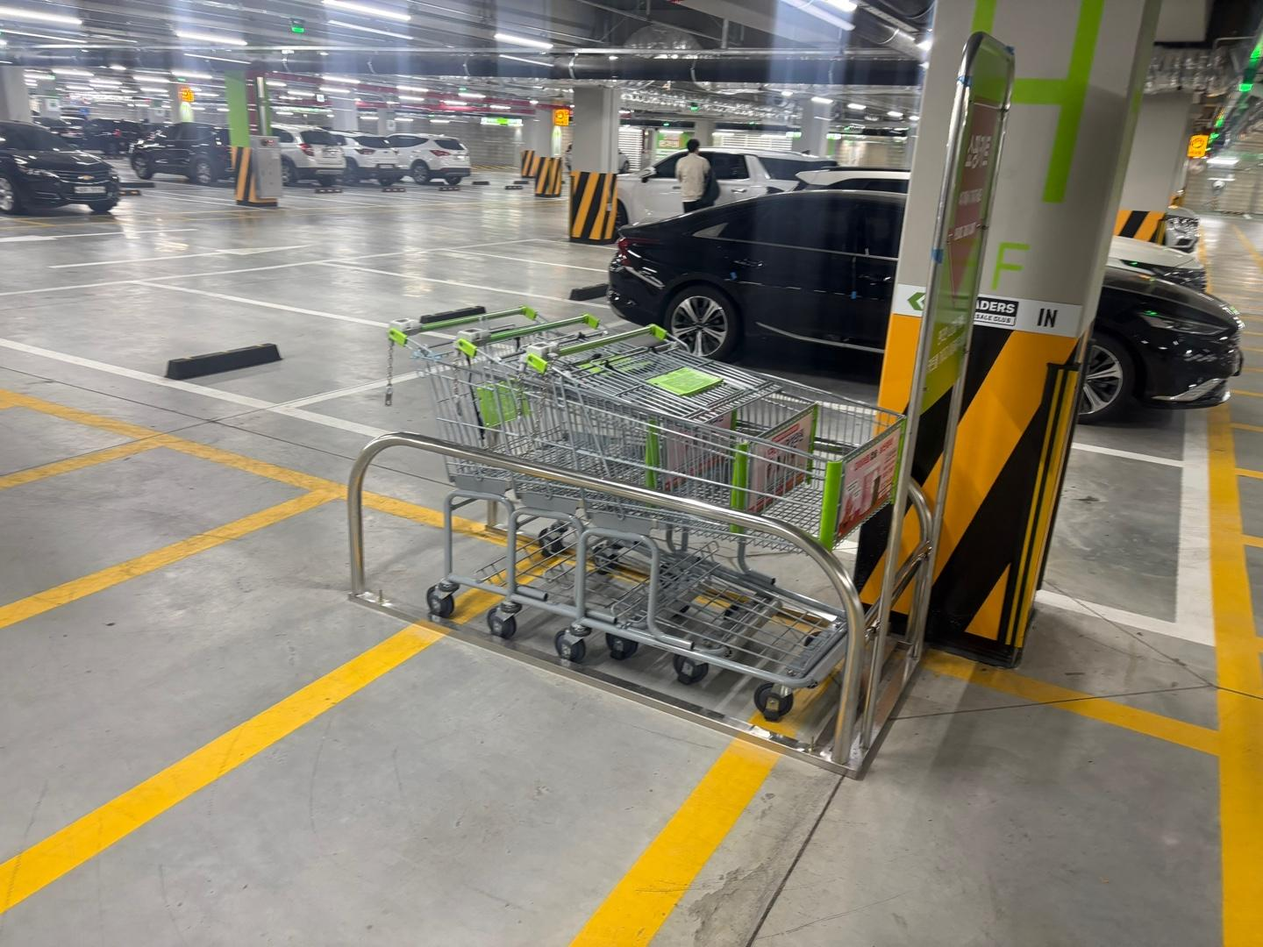combined_cart: (342, 299, 939, 778)
